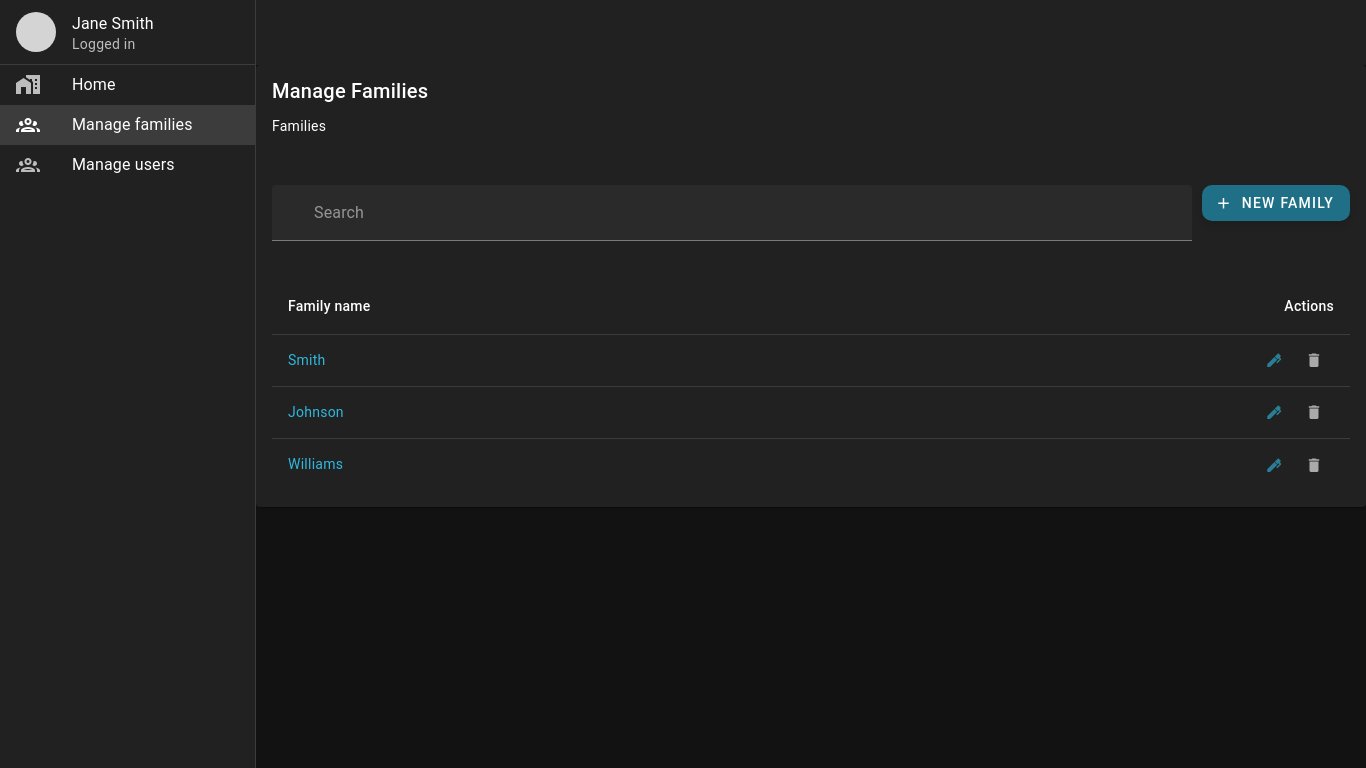
Test: Manage Families Page › should display "No results found" when no families match the search
The image size is (1366, 768).
Note: Typ een zoekterm die geen resultaten heeft
Type "Nonexistent Family" into the field with id "searchbar" at (751, 213), box [308, 185, 1193, 241]
Then press Enter
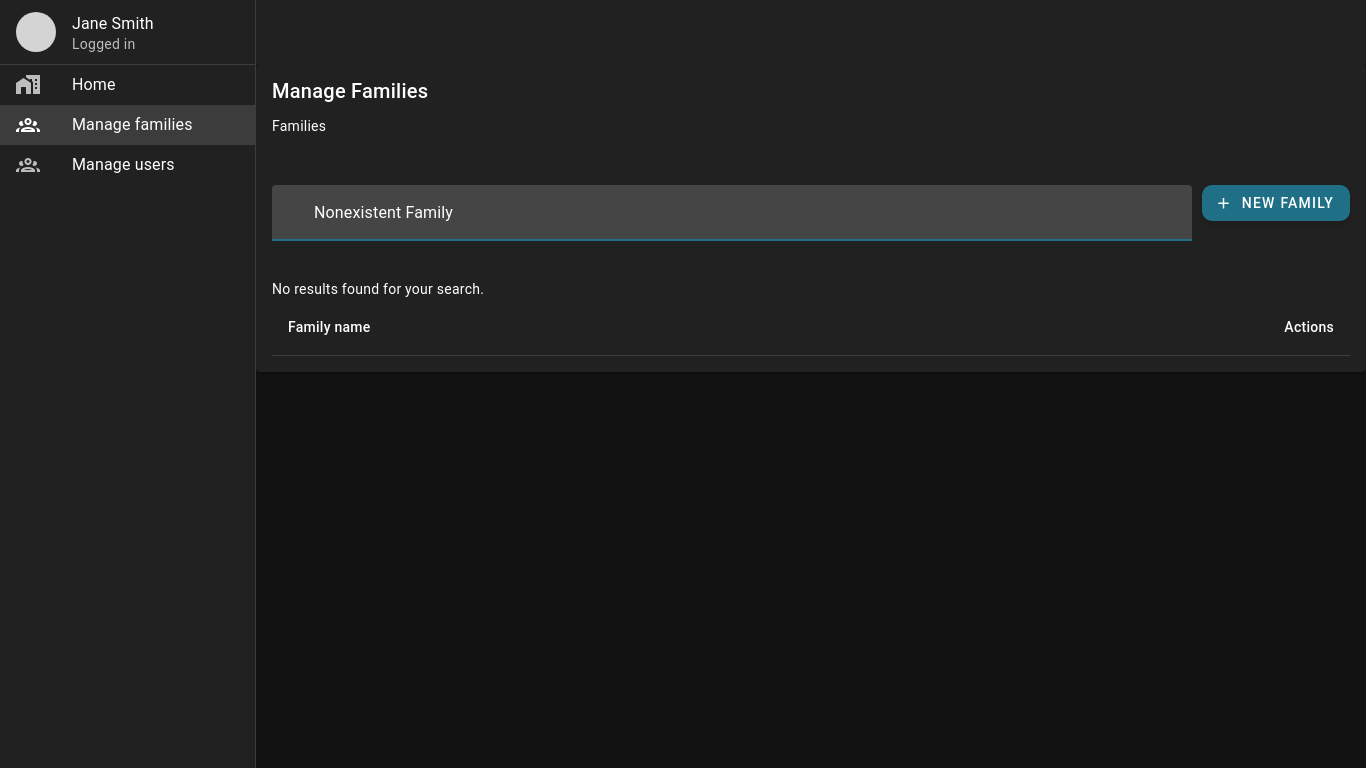
Expected: the text "No results found for your search." is shown, [272, 281, 484, 297]
